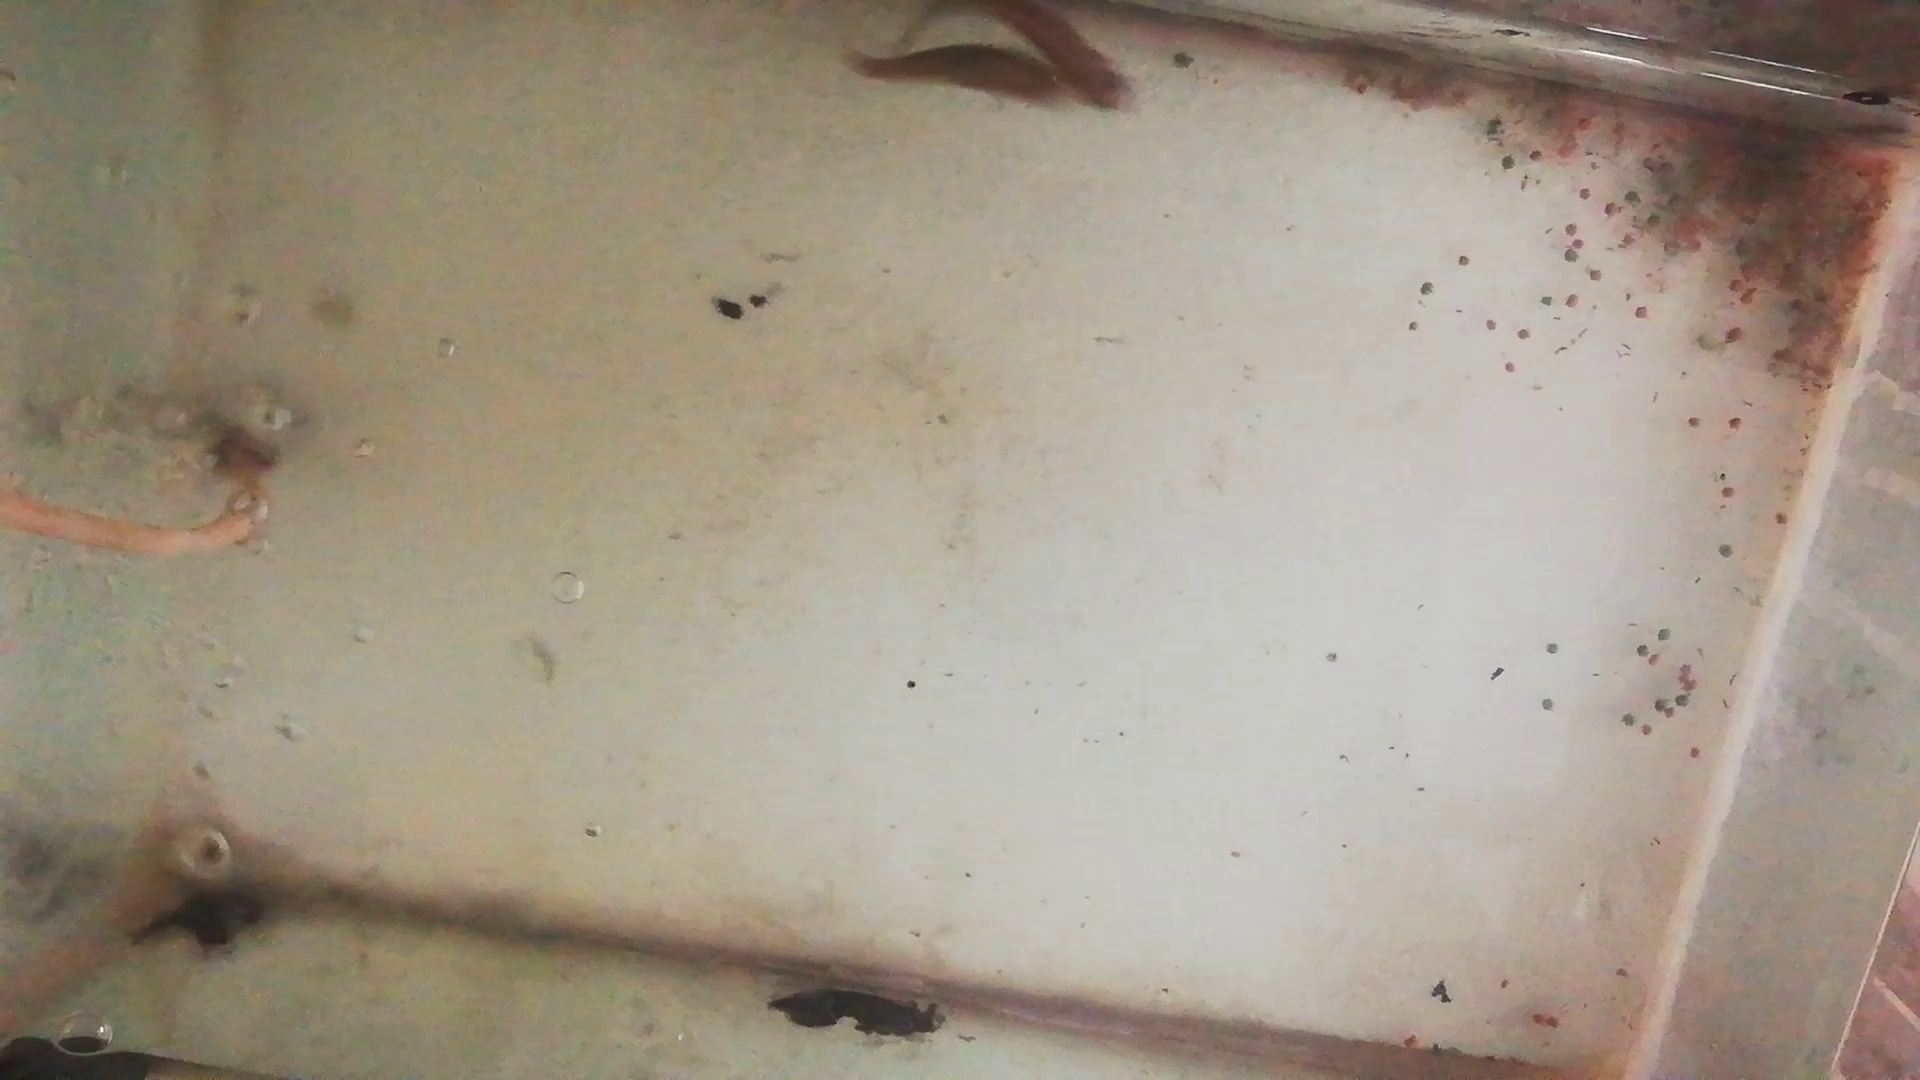fish: (924, 3, 1139, 113), (847, 42, 1073, 117)
